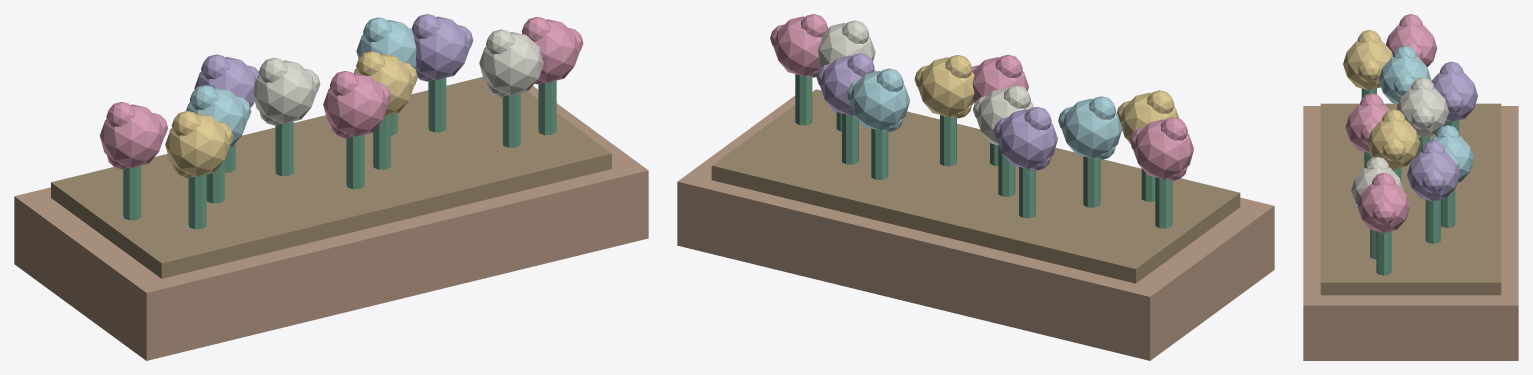
The model's file is flower_bed.glb.
3 renders of one model, left to right at view 1: azimuth 30°, elevation 25°; view 2: azimuth 150°, elevation 25°; view 3: azimuth 270°, elevation 25°, orthographic. The views are drawn at different scales.
Visible parts, largest first — view 1: flower_bed; view 2: flower_bed; view 3: flower_bed.
Part boxes in pixels (x1,y1,x2,y2): flower_bed: [14, 14, 648, 360]; flower_bed: [677, 14, 1274, 360]; flower_bed: [1303, 14, 1518, 360].
Bounding box in the file's own units: 3.4 × 1.29 × 1.55.
